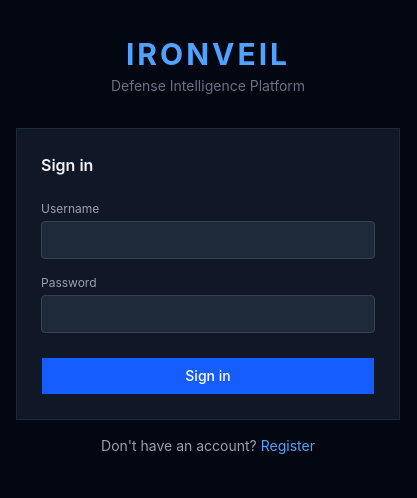
Test: LoginPage › does NOT navigate on failed login
Step 1. Type "bad" into the field labelled "Username" → coordinates (208, 240), box [41, 221, 375, 259]
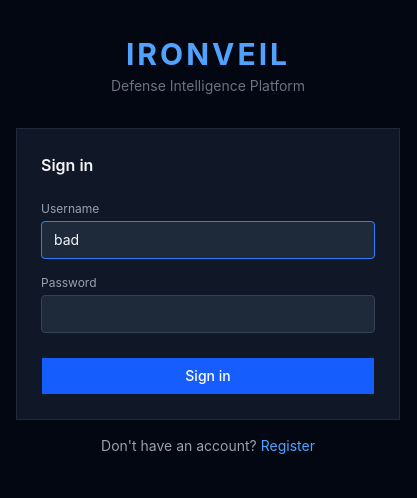
Step 2. Type "bad" into the password field labelled "Password" → coordinates (208, 314), box [41, 295, 375, 333]
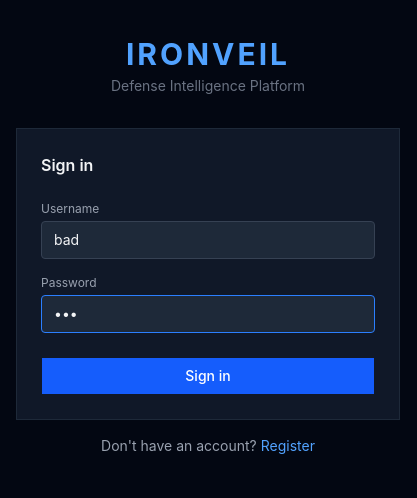
Step 3. Click the button "Sign in" → coordinates (208, 376), box [41, 357, 375, 395]
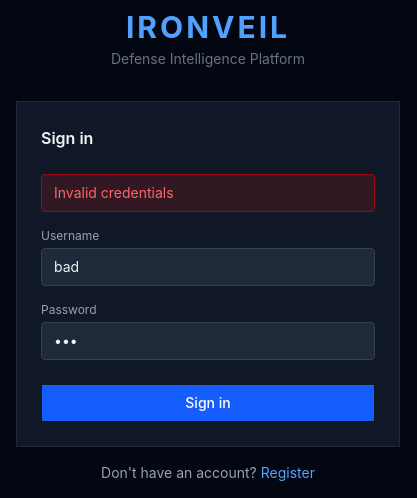
Now the message "Invalid credentials" is shown, box [41, 174, 375, 212]
